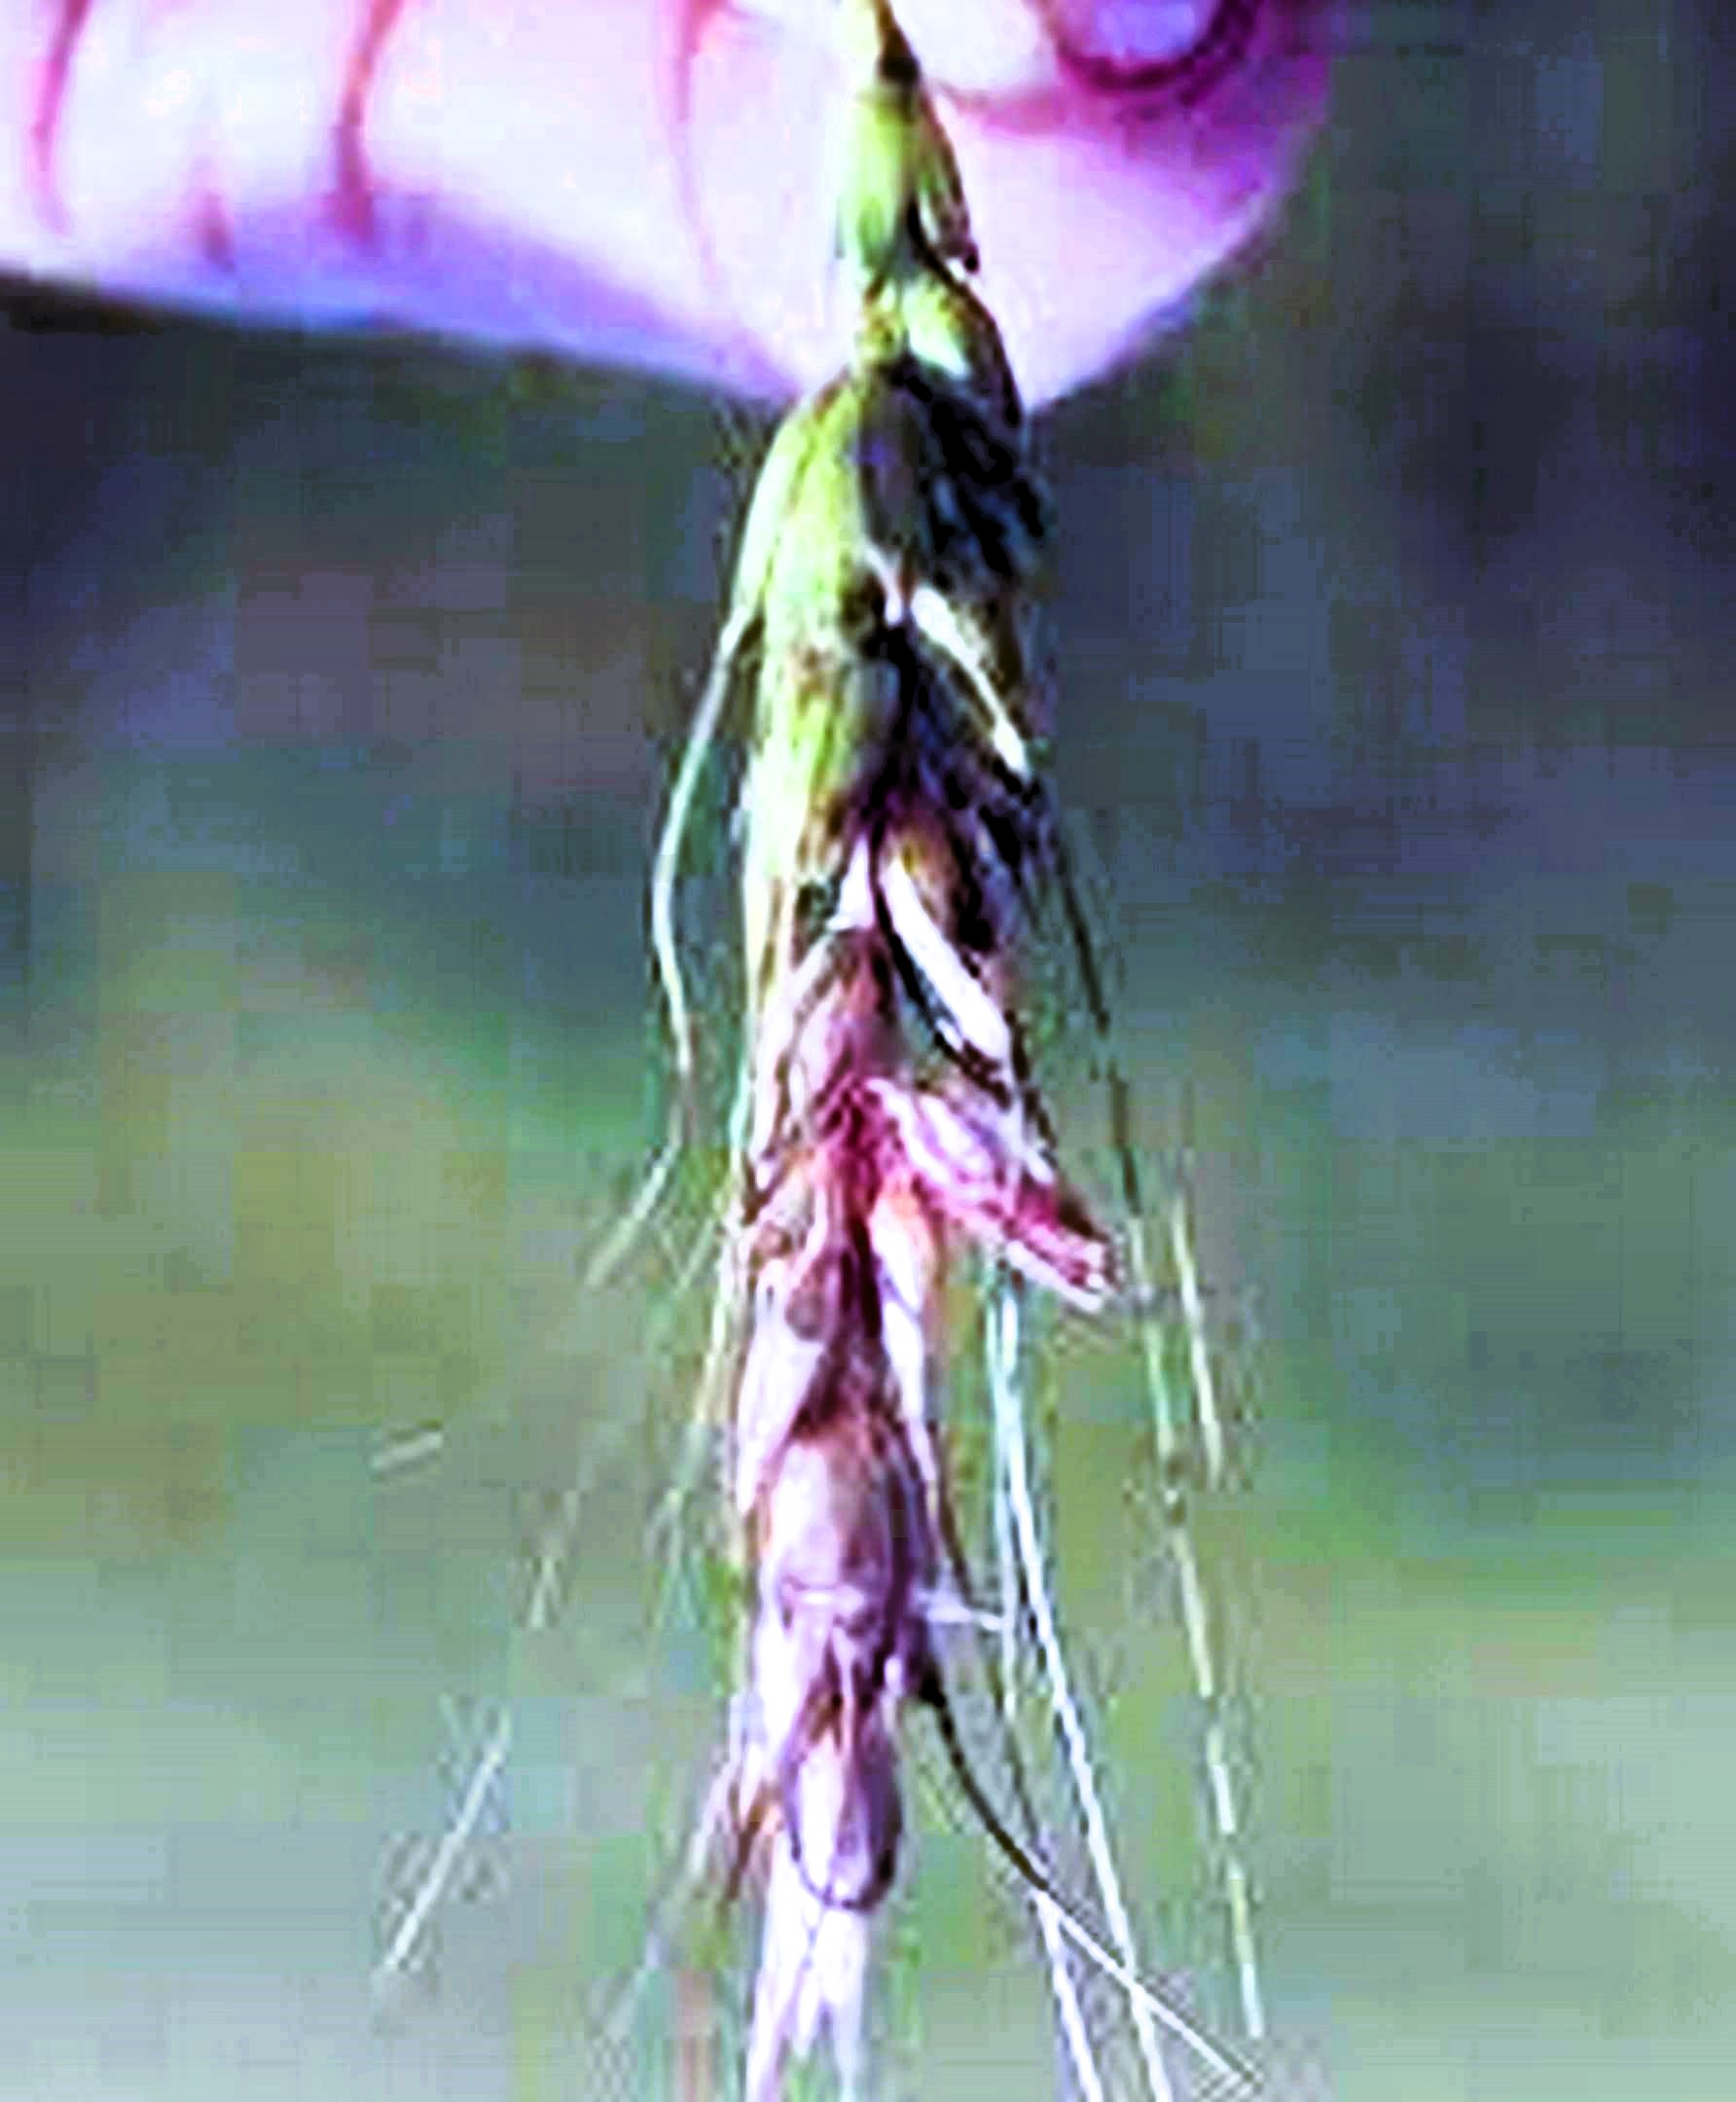Wheat scab: (644, 351, 1123, 1961)
